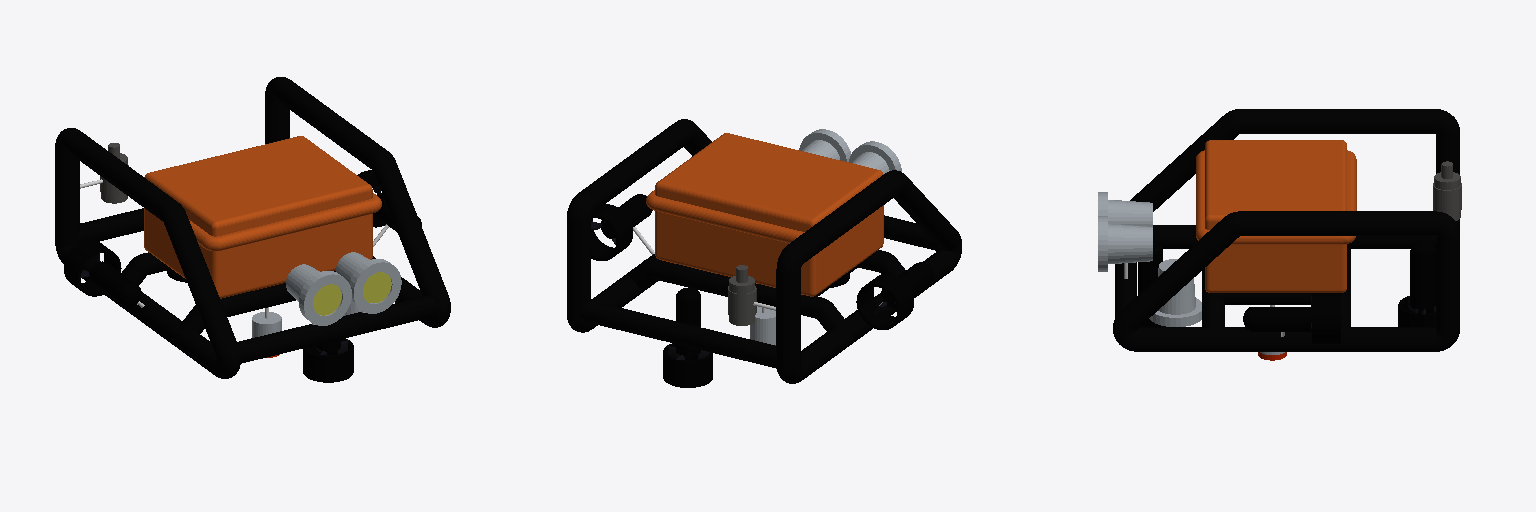
Rendered from hanse_very_high.obj.
3 renders of one model, left to right at view 1: azimuth 30°, elevation 25°; view 2: azimuth 150°, elevation 25°; view 3: azimuth 270°, elevation 25°, orthographic.
Bounding box in the file's own units: 6.54 × 3.65 × 6.34.